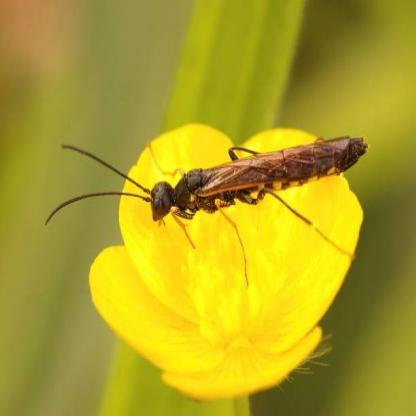sawfly: (43, 127, 369, 292)
